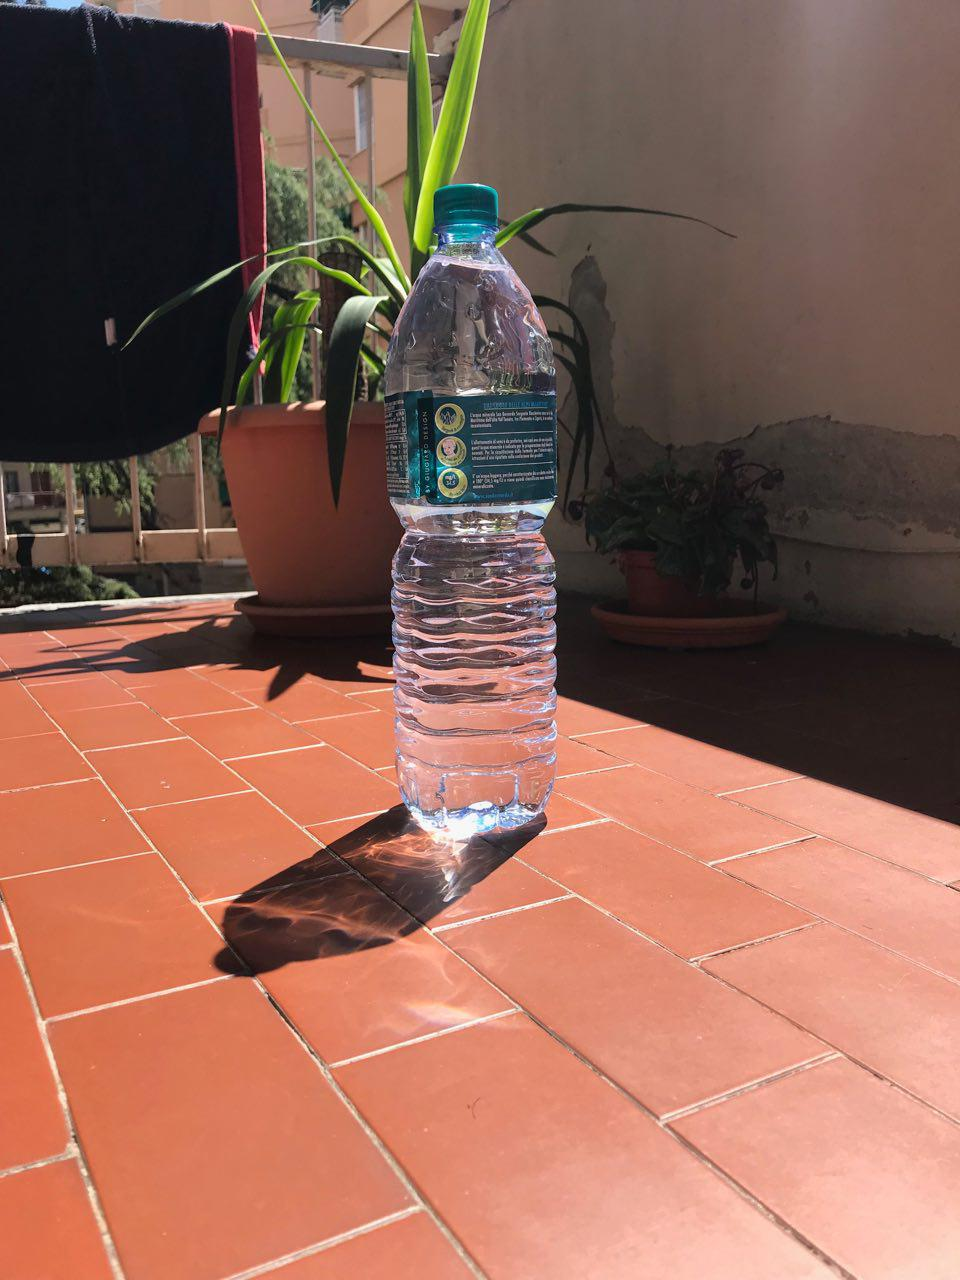san_bernardo: (383, 182, 560, 838)
